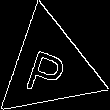P_N: (24, 36, 75, 97)
